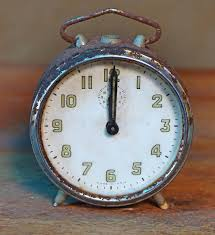alarm_clock: (30, 6, 192, 210)
